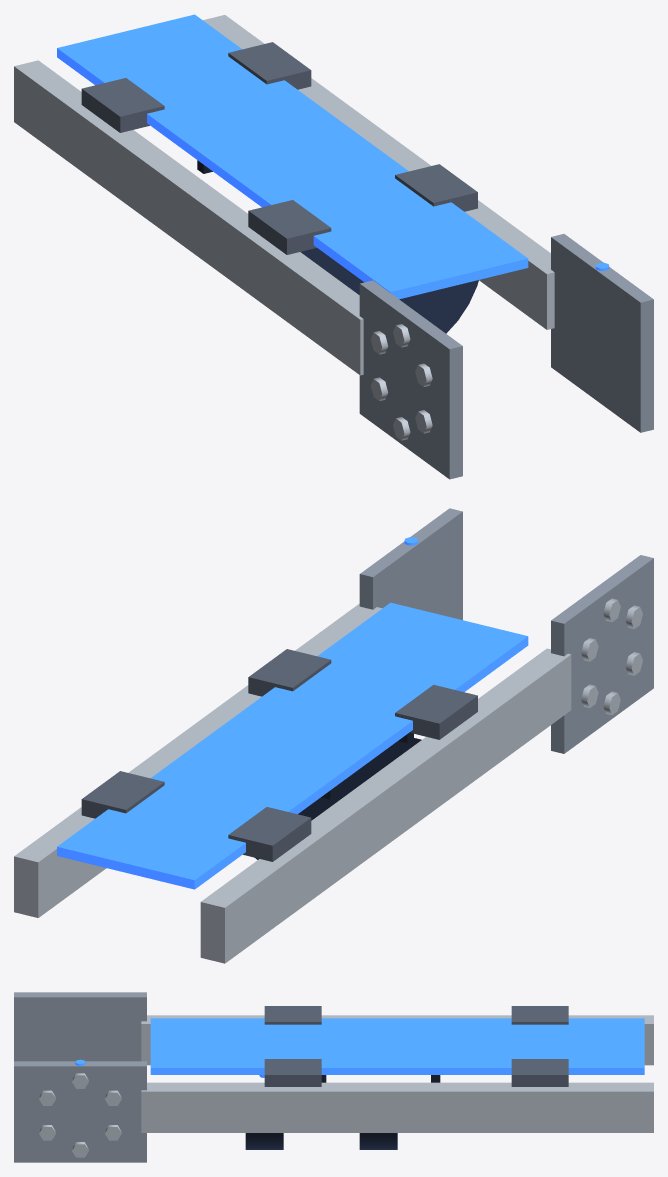
Rendered from tower_lance_damage_s5.glb.
The picture shows the model from 3 angles, top to bottom: view 1: azimuth 30°, elevation 25°; view 2: azimuth 150°, elevation 25°; view 3: azimuth 270°, elevation 25°; orthographic projection. The views are drawn at different scales.
Visible parts, largest first — view 1: lance_accelerator_b, lance_heavy_rail_r, lance_breech_cheek_l, lance_breech_cheek_r, lance_heavy_rail_l, lance_heavy_rail_brace_r, lance_heavy_rail_brace2_r, lance_heavy_rail_brace2_l, lance_heavy_rail_brace_l, lance_coil_cap0, lance_cheek_bolts_l, lance_coil_cap1; view 2: lance_accelerator_b, lance_heavy_rail_r, lance_breech_cheek_r, lance_heavy_rail_l, lance_breech_cheek_l, lance_heavy_rail_brace2_r, lance_heavy_rail_brace_r, lance_heavy_rail_brace2_l, lance_heavy_rail_brace_l, lance_cheek_bolts_l, lance_coil_cap0; view 3: lance_accelerator_b, lance_heavy_rail_l, lance_breech_cheek_l, lance_breech_cheek_r, lance_heavy_rail_r, lance_heavy_rail_brace_l, lance_heavy_rail_brace2_l, lance_cheek_bolts_r, lance_heavy_rail_brace_r, lance_heavy_rail_brace2_r, lance_coil_cap0, lance_coil_cap1.
Boxes of the visible parts, x1=… form: lance_accelerator_b: x1=57, y1=14, x2=528, y2=299; lance_heavy_rail_r: x1=14, y1=60, x2=363, y2=375; lance_breech_cheek_l: x1=551, y1=234, x2=653, y2=432; lance_breech_cheek_r: x1=359, y1=280, x2=462, y2=479; lance_heavy_rail_l: x1=203, y1=15, x2=554, y2=329; lance_heavy_rail_brace_r: x1=248, y1=200, x2=331, y2=254; lance_heavy_rail_brace2_r: x1=81, y1=78, x2=164, y2=132; lance_heavy_rail_brace2_l: x1=228, y1=42, x2=311, y2=89; lance_heavy_rail_brace_l: x1=395, y1=164, x2=477, y2=211; lance_coil_cap0: x1=343, y1=279, x2=478, y2=333; lance_cheek_bolts_l: x1=370, y1=324, x2=432, y2=440; lance_coil_cap1: x1=301, y1=248, x2=359, y2=282; lance_accelerator_b: x1=57, y1=602, x2=528, y2=889; lance_heavy_rail_r: x1=200, y1=648, x2=571, y2=963; lance_breech_cheek_r: x1=551, y1=555, x2=653, y2=753; lance_heavy_rail_l: x1=14, y1=603, x2=382, y2=917; lance_breech_cheek_l: x1=359, y1=508, x2=462, y2=619; lance_heavy_rail_brace2_r: x1=228, y1=807, x2=311, y2=861; lance_heavy_rail_brace_r: x1=395, y1=684, x2=477, y2=739; lance_heavy_rail_brace2_l: x1=81, y1=771, x2=164, y2=818; lance_heavy_rail_brace_l: x1=248, y1=649, x2=331, y2=696; lance_cheek_bolts_l: x1=581, y1=598, x2=642, y2=714; lance_coil_cap0: x1=337, y1=738, x2=421, y2=795; lance_accelerator_b: x1=150, y1=1018, x2=644, y2=1074; lance_heavy_rail_l: x1=141, y1=1082, x2=653, y2=1132; lance_breech_cheek_l: x1=14, y1=1061, x2=146, y2=1162; lance_breech_cheek_r: x1=14, y1=992, x2=146, y2=1061; lance_heavy_rail_r: x1=141, y1=1015, x2=653, y2=1065; lance_heavy_rail_brace_l: x1=264, y1=1059, x2=321, y2=1086; lance_heavy_rail_brace2_l: x1=511, y1=1059, x2=568, y2=1086; lance_cheek_bolts_r: x1=39, y1=1073, x2=121, y2=1157; lance_heavy_rail_brace_r: x1=264, y1=1006, x2=321, y2=1024; lance_heavy_rail_brace2_r: x1=511, y1=1006, x2=568, y2=1024; lance_coil_cap0: x1=245, y1=1133, x2=283, y2=1149; lance_coil_cap1: x1=359, y1=1133, x2=397, y2=1149.
Size of the model in its own units: 0.974 by 0.671 by 3.37.
